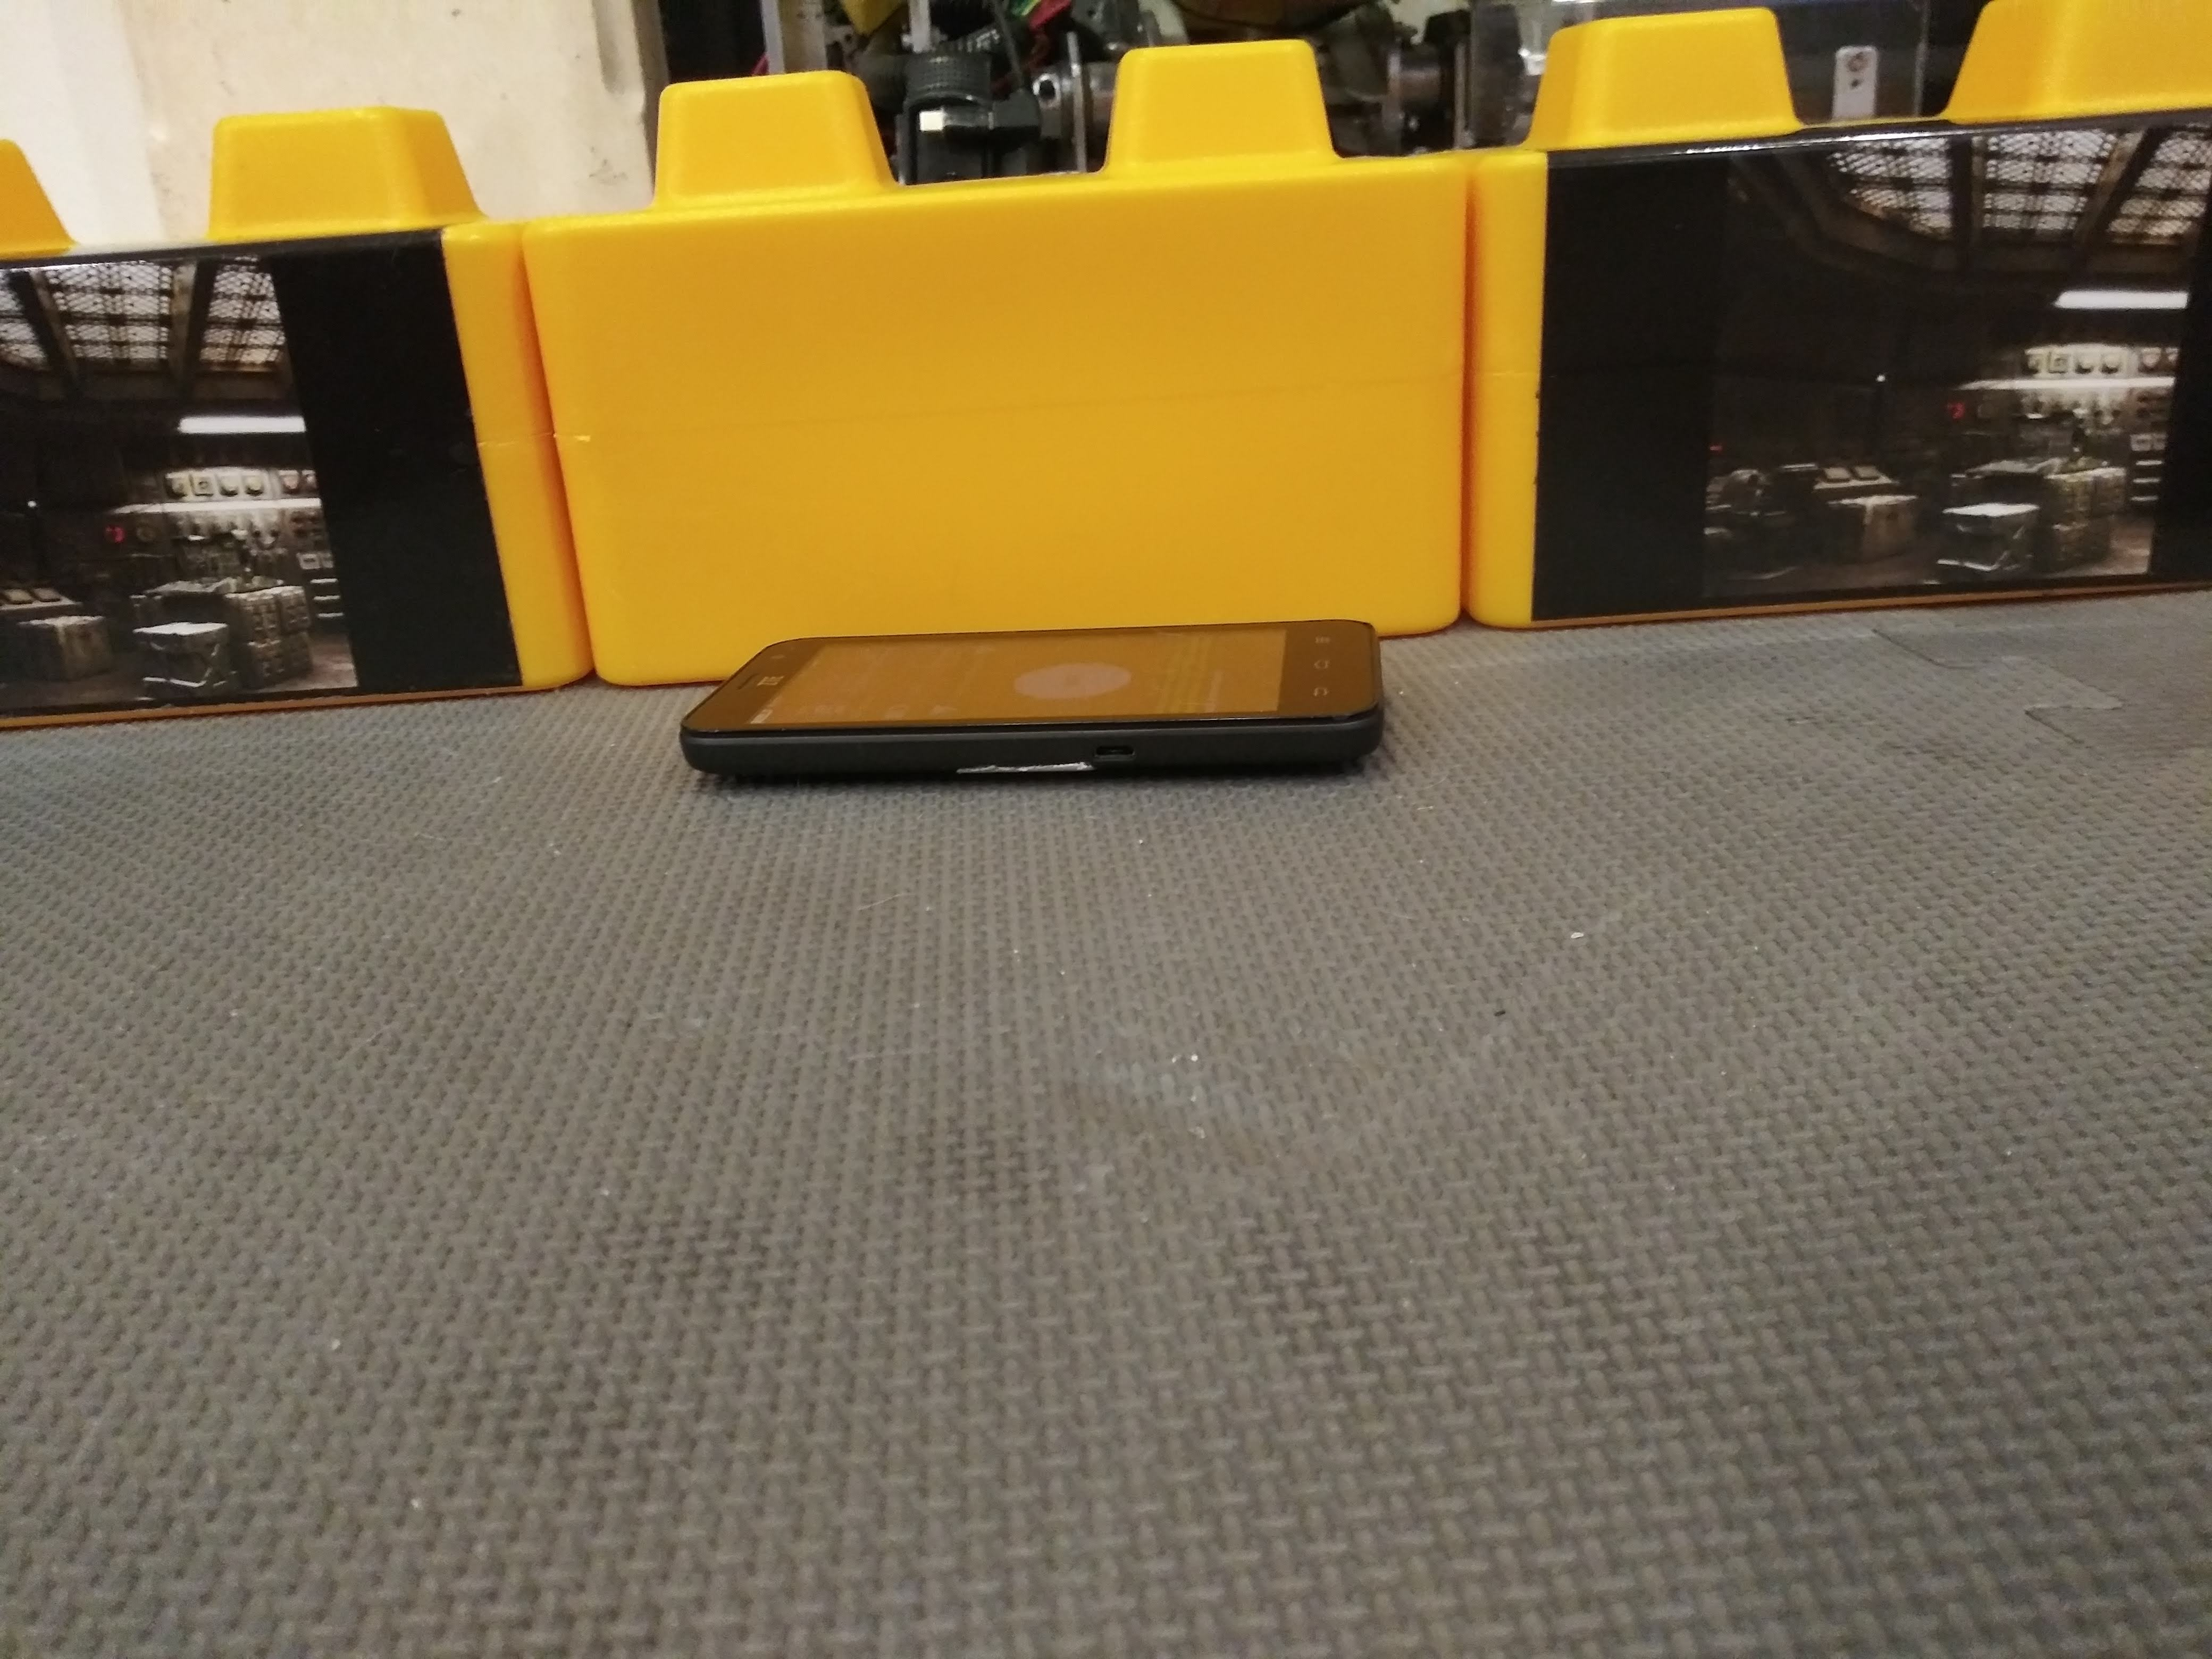skystone: (1522, 115, 2186, 605), (7, 204, 514, 713)
stone: (540, 160, 1447, 631)
